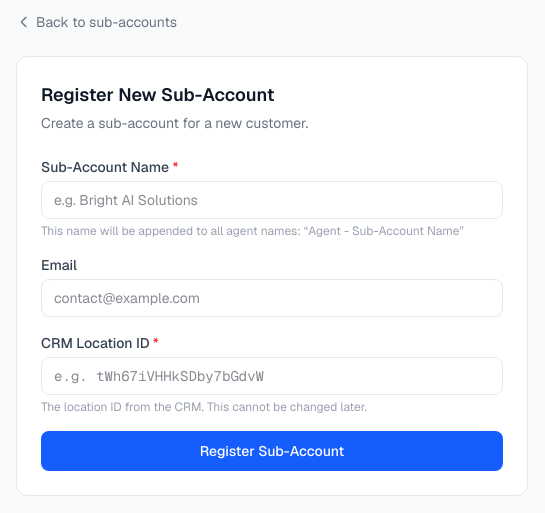
Scenario: RegisterTenantPage › submits form and shows success state
Type "Acme Corp" into the field labelled "Sub-Account Name *".
click(272, 200); type("Acme Corp")  # box [41,181,503,219]
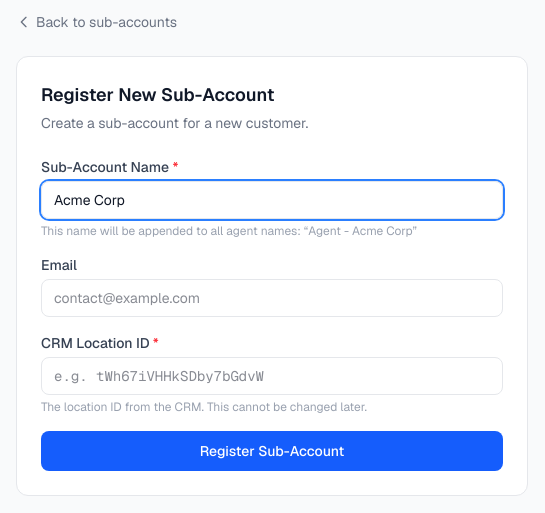
Type "loc_1" into the field labelled "CRM Location ID *".
click(272, 376); type("loc_1")  # box [41,357,503,395]
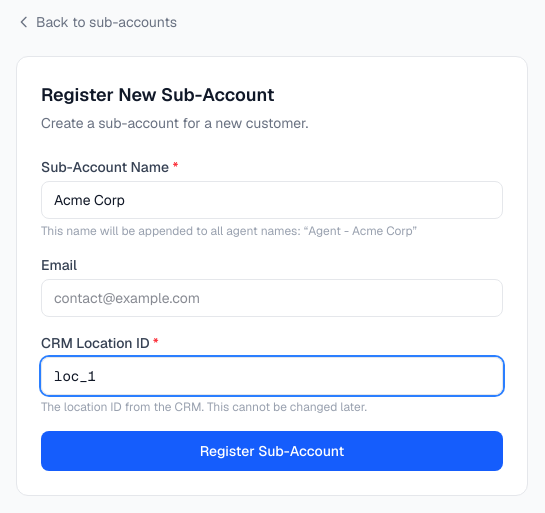
Click the button "Register Sub-Account".
click(272, 451)  # box [41,431,503,471]
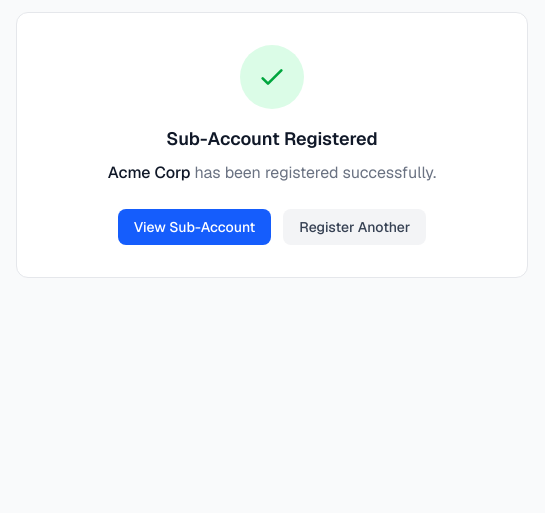
Now the text "Acme Corp" is shown, box [108,162,190,183]
Now the heading "Sub-Account Registered" is shown, box [166,127,378,150]
Now the button "View Sub-Account" is shown, box [118,209,271,245]
